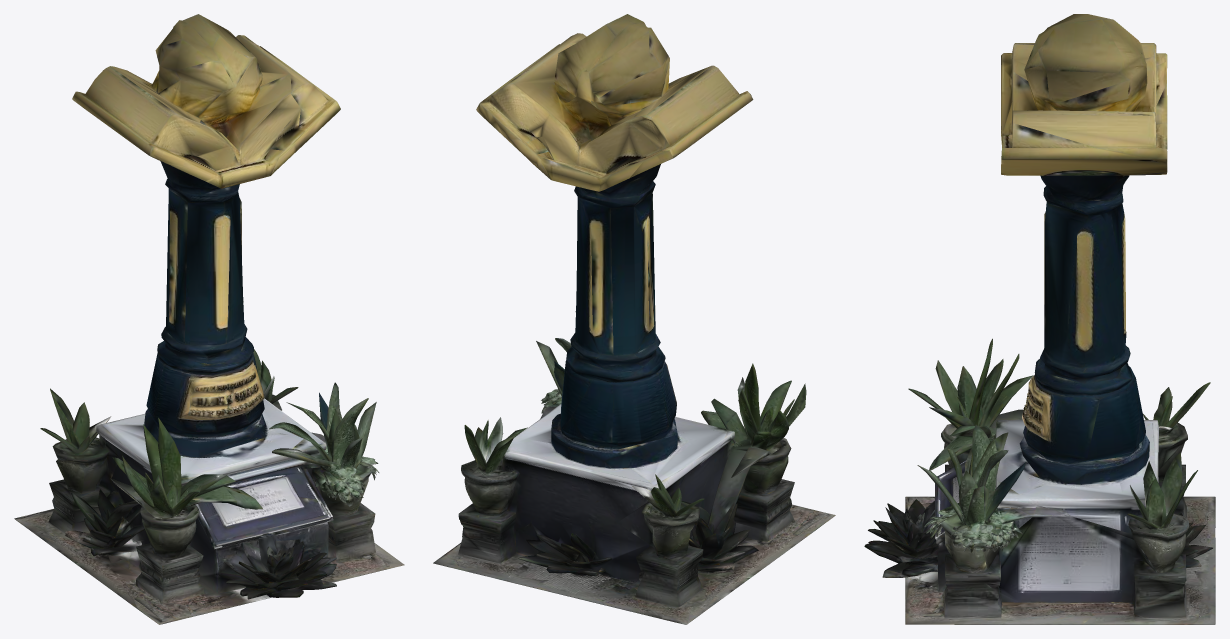
The model's file is monumen_adiwiyata_v1.glb.
3 views of the same model, side by side, from view 1: azimuth 30°, elevation 25°; view 2: azimuth 150°, elevation 25°; view 3: azimuth 270°, elevation 25° (orthographic). The views are drawn at different scales.
Visible parts, largest first — view 1: convert; view 2: convert; view 3: convert.
Part boxes in pixels (left/top/right/bottom): convert: left=14, top=14, right=404, bottom=624; convert: left=433, top=14, right=835, bottom=624; convert: left=864, top=14, right=1215, bottom=624.
Bounding box in the file's own units: 0.4932 × 0.9488 × 0.5535.
1 material, 1 textured.
